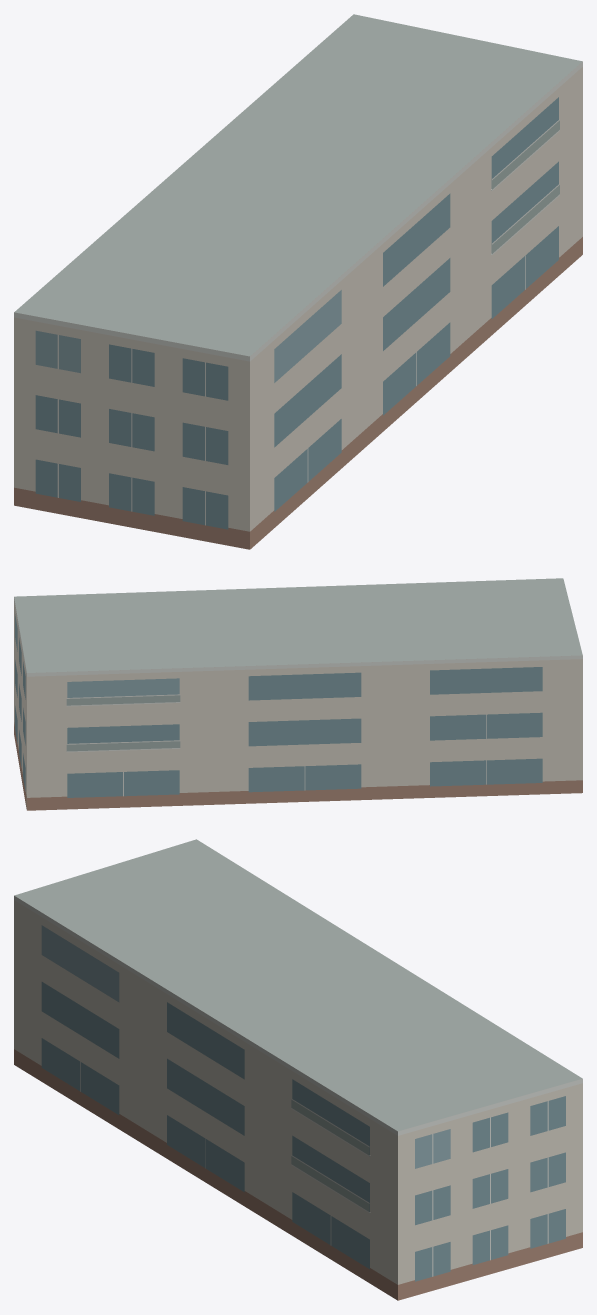
The model's file is survey-upis-32568982.glb.
The picture shows the model from 3 angles, top to bottom: view 1: azimuth 30°, elevation 25°; view 2: azimuth 150°, elevation 25°; view 3: azimuth 270°, elevation 25°; orthographic projection. The views are drawn at different scales.
Parts seen in each view (by area): view 1: survey-upis-32568982.tmp; view 2: survey-upis-32568982.tmp; view 3: survey-upis-32568982.tmp.
Boxes of the visible parts, left/top/right/bottom form: survey-upis-32568982.tmp: left=14, top=14, right=582, bottom=549; survey-upis-32568982.tmp: left=14, top=578, right=582, bottom=810; survey-upis-32568982.tmp: left=14, top=839, right=582, bottom=1300.
Bounding box in the file's own units: 33.89 × 9.15 × 27.88.
